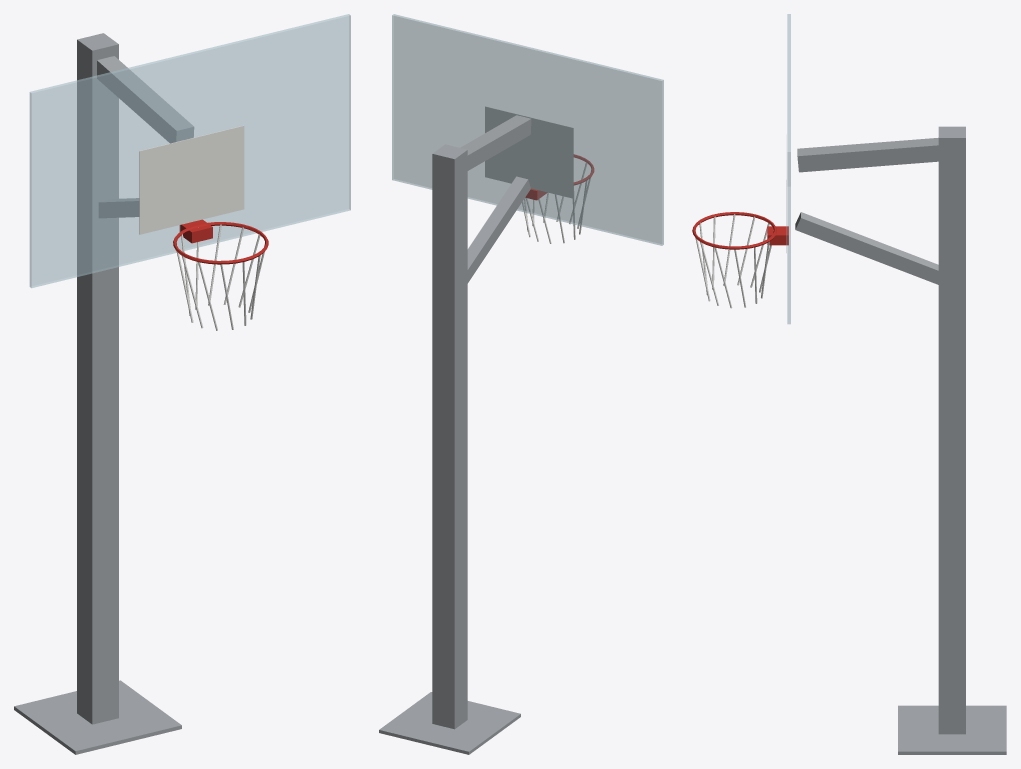
3 renders of one model, left to right at view 1: azimuth 30°, elevation 25°; view 2: azimuth 150°, elevation 25°; view 3: azimuth 270°, elevation 25°, orthographic. The views are drawn at different scales.
Parts seen in each view (by area): view 1: plateBottom=2.9;plateHeight=1.05;plateMaterial=glass;plateSh (×4); view 2: plateBottom=2.9;plateHeight=1.05;plateMaterial=glass;plateSh (×3); view 3: plateBottom=2.9;plateHeight=1.05;plateMaterial=glass;plateSh (×4).
Boxes of the visible parts, <box> form: plateBottom=2.9;plateHeight=1.05;plateMaterial=glass;plateSh (×4): <box>14,14,350,754</box>; plateBottom=2.9;plateHeight=1.05;plateMaterial=glass;plateSh (×3): <box>379,14,663,754</box>; plateBottom=2.9;plateHeight=1.05;plateMaterial=glass;plateSh (×4): <box>692,14,1006,754</box>.
Bounding box in the file's own units: 1.8 × 1.73 × 3.95.
